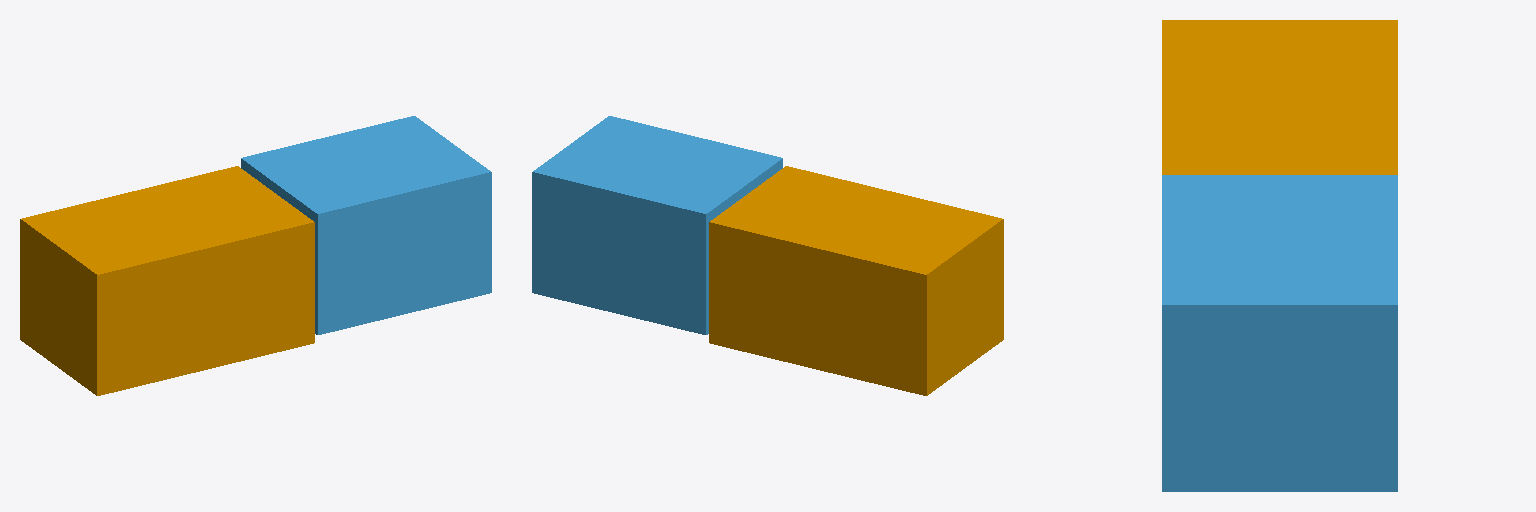
URDF robot description (2link_estimated):
<?xml version="1.0" ?>
<robot name="2link_estimated">
  <!--
     부위별 밀도를 로봇 측정으로 추정해 생성한 sim-ready 자산.
     가정: 각 부위 내부 밀도 균일, 측정 중 관절 고정.
     추정 밀도 [kg/m^3] (95% 구간):
       parent: 1797.6 +/- 8.9
       child: 3601.4 +/- 8.5
  -->
  <link name="parent">
    <visual>
      <origin xyz="0.037500 0.000000 0.000000"/>
      <geometry>
        <box size="0.075000 0.046000 0.040000"/>
      </geometry>
    </visual>
    <collision>
      <origin xyz="0.037500 0.000000 0.000000"/>
      <geometry>
        <box size="0.075000 0.046000 0.040000"/>
      </geometry>
    </collision>
    <inertial>
      <origin xyz="0.037500 0.000000 0.000000"/>
      <mass value="0.248063"/>
      <inertia ixx="0.000076817" ixy="0.000000000" ixz="0.000000000" iyy="0.000149354" iyz="0.000000000" izz="0.000160021"/>
    </inertial>
  </link>
  <link name="child">
    <visual>
      <origin xyz="0.029009 0.000000 -0.022663"/>
      <geometry>
        <box size="0.060000 0.046000 0.040000"/>
      </geometry>
    </visual>
    <collision>
      <origin xyz="0.029009 0.000000 -0.022663"/>
      <geometry>
        <box size="0.060000 0.046000 0.040000"/>
      </geometry>
    </collision>
    <inertial>
      <origin xyz="0.029009 0.000000 -0.022663"/>
      <mass value="0.438597"/>
      <inertia ixx="0.000146352" ixy="0.000000000" ixz="0.000029733" iyy="0.000233580" iyz="0.000000000" izz="0.000227447"/>
    </inertial>
  </link>
  <joint name="hinge" type="revolute">
    <parent link="parent"/>
    <child link="child"/>
    <origin xyz="0.077000 0.000000 0.025000"/>
    <axis xyz="0.0 -1.0 0.0"/>
    <limit lower="0.000000" upper="3.141593" effort="10" velocity="1"/>
  </joint>
</robot>

--- Facts derived from the render (not from the file) ---
3 views of the same robot in one strip: view 1: azimuth 30°, elevation 25°; view 2: azimuth 150°, elevation 25°; view 3: azimuth 270°, elevation 25° (orthographic).
Model 2link_estimated with 2 links and 1 joints (1 revolute), rooted at parent, posed all joints at 0.
Visible links, largest first — view 1: parent, child; view 2: parent, child; view 3: child, parent.
Link boxes in pixels (x1,y1,x2,y2): parent: (20, 166, 314, 395); child: (241, 116, 491, 334); parent: (709, 166, 1003, 395); child: (532, 116, 782, 334); child: (1162, 175, 1397, 491); parent: (1162, 20, 1397, 174).
Size in the robot's own frame: 0.136 by 0.046 by 0.0423 metres.
Geometry: primitives only (box / cylinder / sphere), no mesh files.
